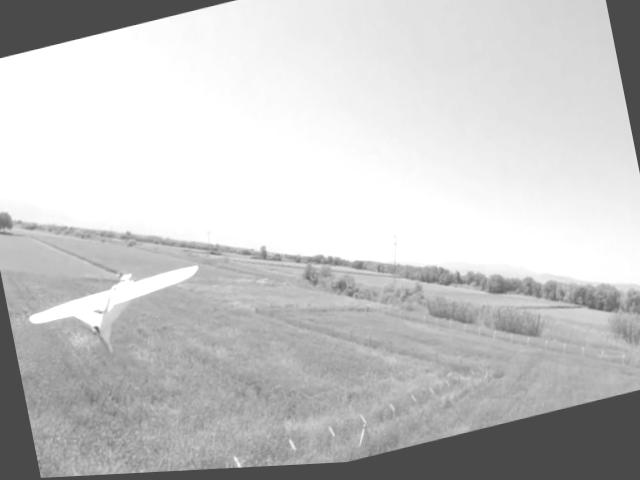hedef: (9, 240, 219, 377)
